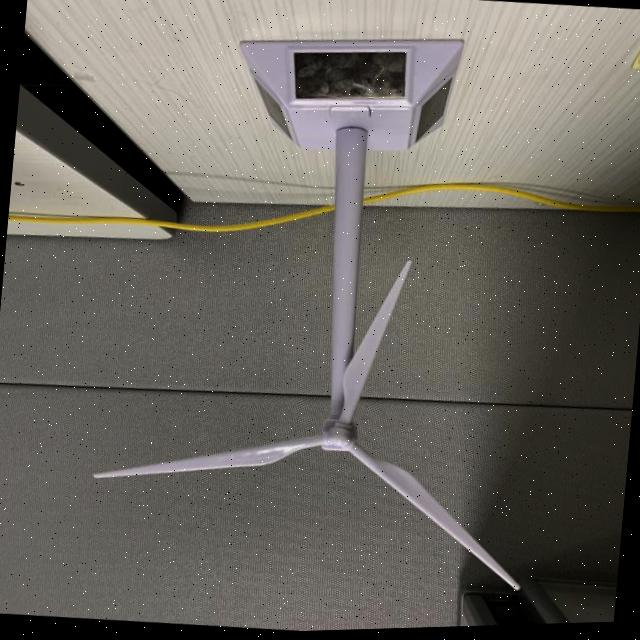solid-blade: (349, 445, 518, 591), (338, 262, 410, 425), (93, 435, 322, 477)
